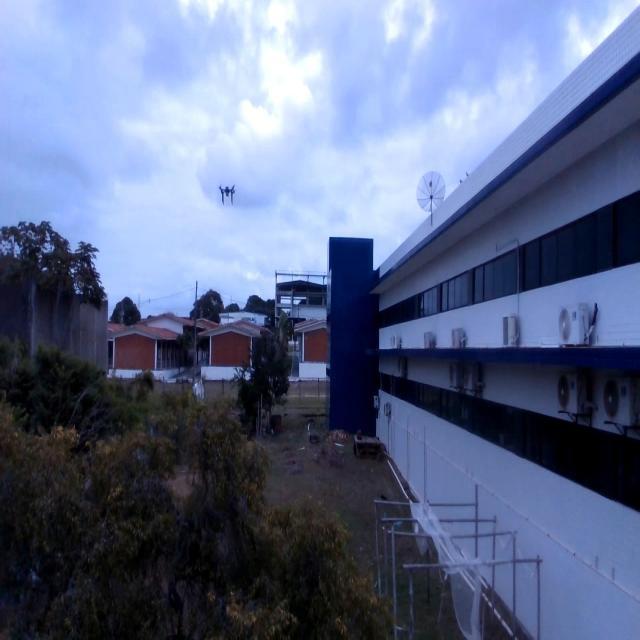-uav-: (213, 176, 239, 214)
